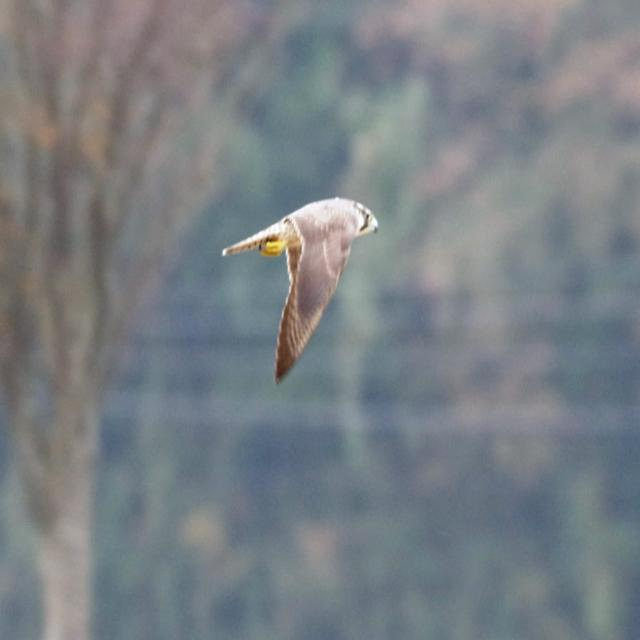bird: (223, 198, 383, 392)
